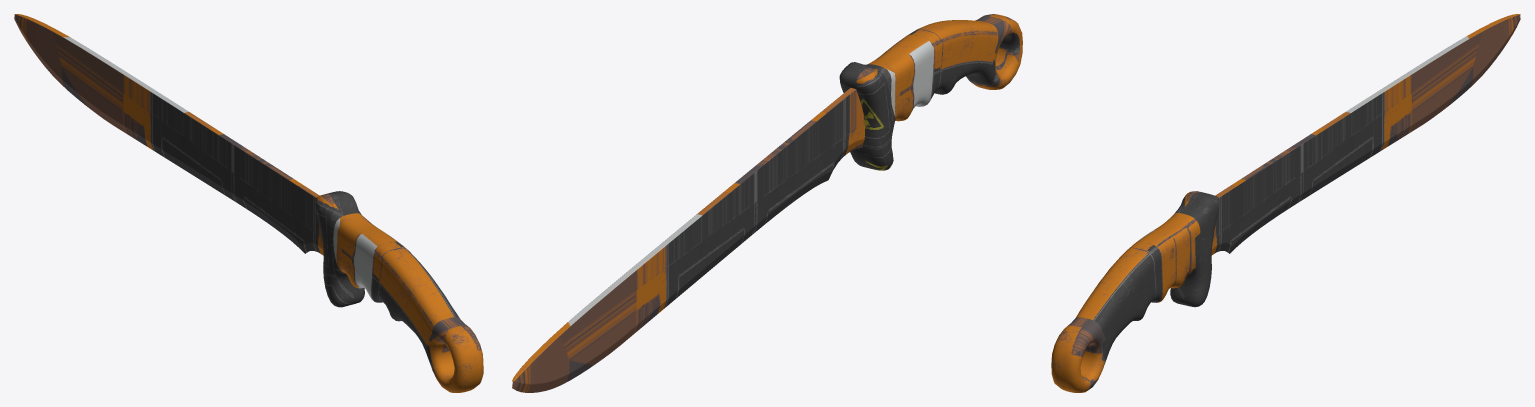
The model's file is Knif.fbx.
The picture shows the model from 3 angles, left to right: view 1: azimuth 30°, elevation 25°; view 2: azimuth 150°, elevation 25°; view 3: azimuth 330°, elevation 25°; orthographic projection. The views are drawn at different scales.
Visible parts, largest first — view 1: Knif; view 2: Knif; view 3: Knif.
Boxes of the visible parts, box(x1,y1,x2,y2) form: Knif: box(14, 14, 483, 392); Knif: box(512, 14, 1022, 392); Knif: box(1051, 14, 1520, 392).
Bounding box in the file's own units: 4.71 × 14.56 × 114.
1 material, 1 textured.
